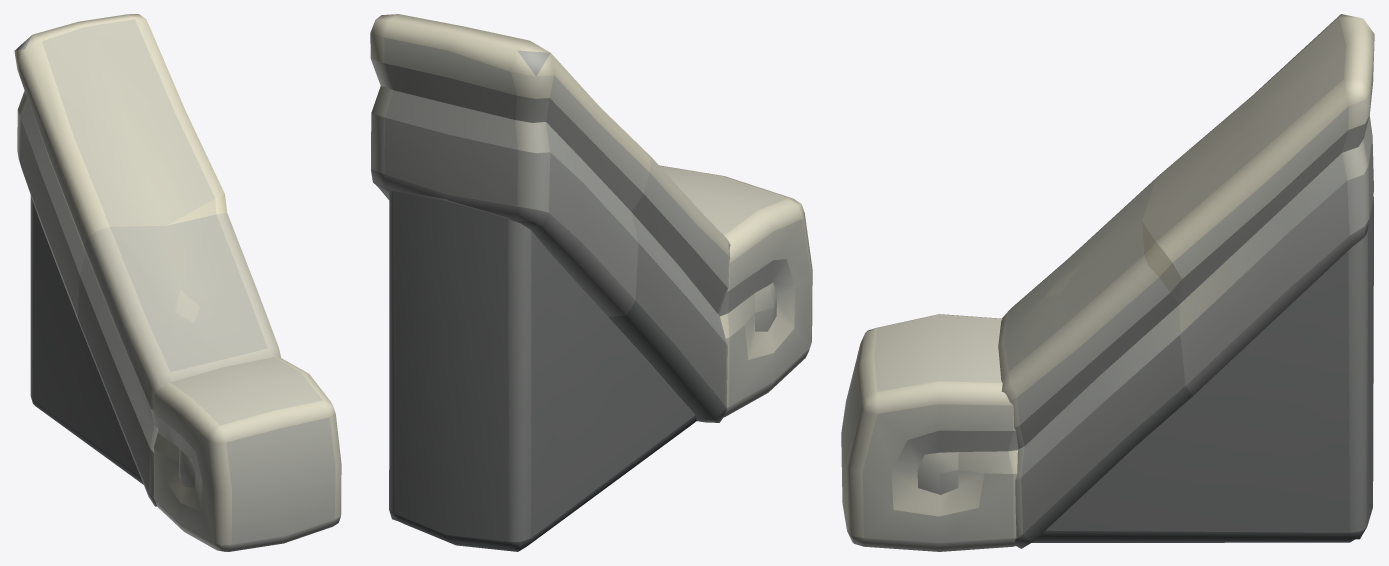
The model's file is ballustrade_stair_ornate2_LOD_setup.fbx.
The picture shows the model from 3 angles, left to right: view 1: azimuth 30°, elevation 25°; view 2: azimuth 150°, elevation 25°; view 3: azimuth 270°, elevation 25°; orthographic projection. The views are drawn at different scales.
Visible parts, largest first — view 1: ballustrade_stair_ornate2_LOD0; view 2: ballustrade_stair_ornate2_LOD0; view 3: ballustrade_stair_ornate2_LOD0.
Boxes of the visible parts, x1,y1,x2,y2 form: ballustrade_stair_ornate2_LOD0: [14, 14, 341, 551]; ballustrade_stair_ornate2_LOD0: [370, 14, 812, 551]; ballustrade_stair_ornate2_LOD0: [841, 14, 1374, 551].
Size of what is drawn, in the model's own units: 59.32 by 157 by 159.
